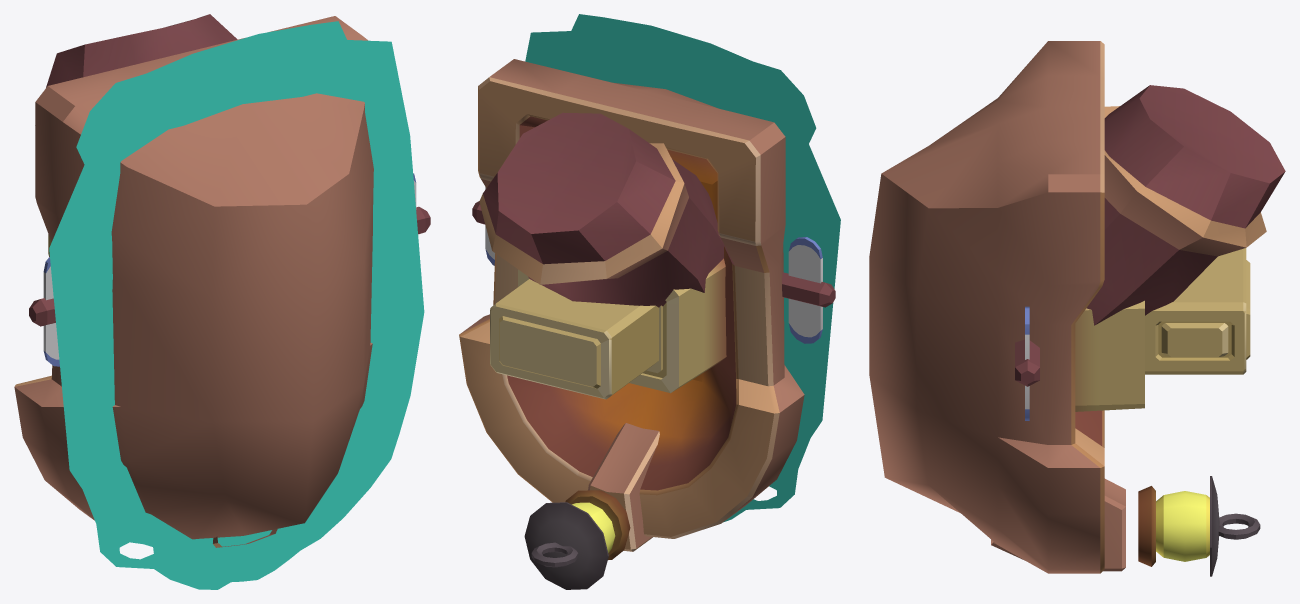
Rendered from scene_1_boat.FBX.
The picture shows the model from 3 angles, left to right: view 1: azimuth 30°, elevation 25°; view 2: azimuth 150°, elevation 25°; view 3: azimuth 270°, elevation 25°; orthographic projection. The views are drawn at different scales.
Parts seen in each view (by area): view 1: scene_1_boat; view 2: scene_1_boat; view 3: scene_1_boat.
Part boxes in pixels (x1,y1,x2,y2): scene_1_boat: [14, 14, 430, 589]; scene_1_boat: [459, 14, 840, 589]; scene_1_boat: [869, 41, 1285, 576].
Bounding box in the file's own units: 158 × 208 × 151.
Materials: 1 (1 with a texture image).
